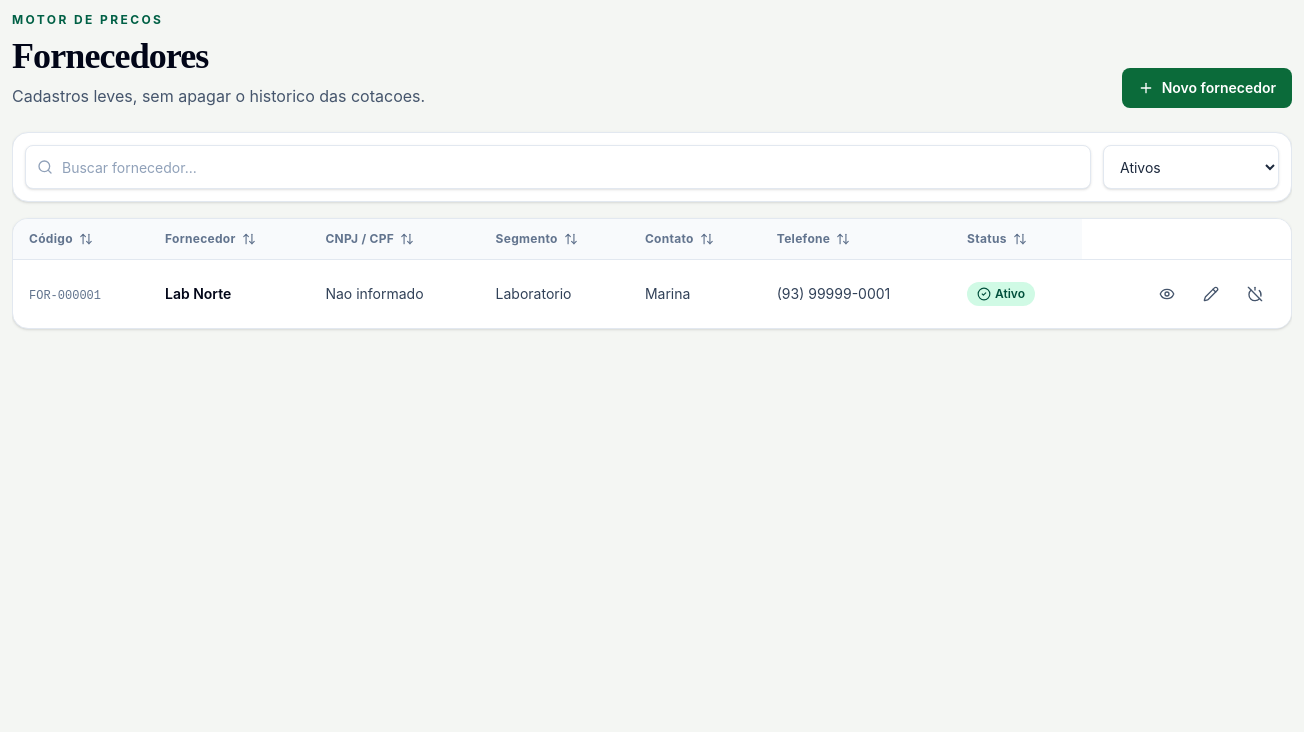
SuppliersPage status actions › aplica busca e apresenta estado filtrado vazio
The image size is (1304, 732).
In the field with placeholder "Buscar fornecedor...": (558, 167) x1=25 y1=145 x2=1091 y2=189, type "inexistente"
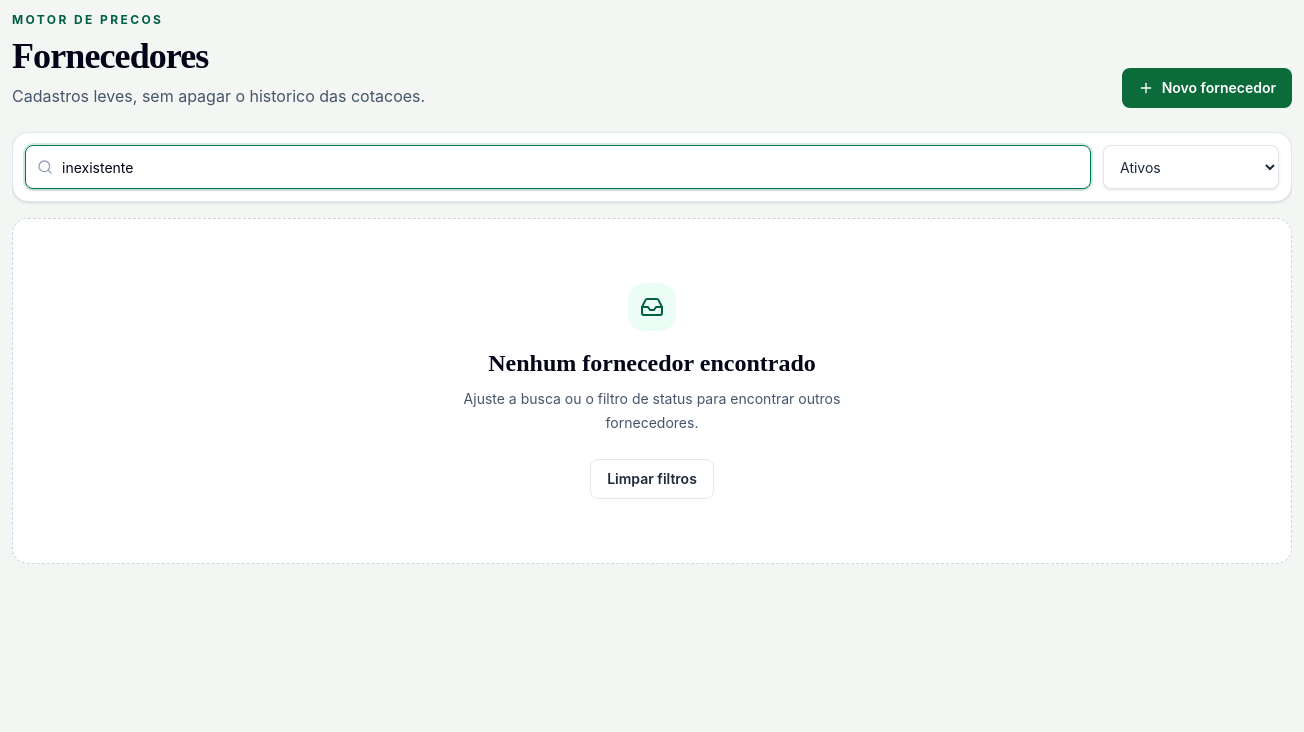
Expected: the heading "Nenhum fornecedor encontrado" is shown, x1=488 y1=350 x2=816 y2=376
